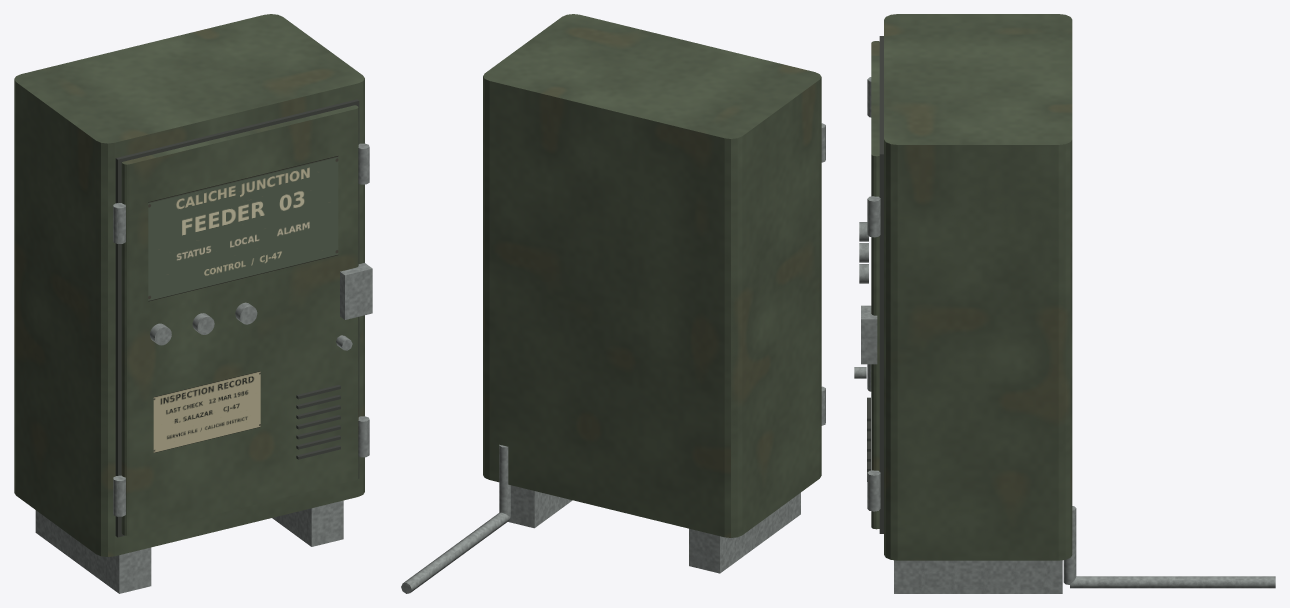
Rendered from SM_Substation_Control.fbx.
3 renders of one model, left to right at view 1: azimuth 30°, elevation 25°; view 2: azimuth 150°, elevation 25°; view 3: azimuth 270°, elevation 25°, orthographic. The views are drawn at different scales.
Visible parts, largest first — view 1: SM_Substation_Control; view 2: SM_Substation_Control; view 3: SM_Substation_Control.
Boxes of the visible parts, x1=… form: SM_Substation_Control: x1=14, y1=14, x2=372, y2=593; SM_Substation_Control: x1=401, y1=14, x2=825, y2=593; SM_Substation_Control: x1=854, y1=14, x2=1275, y2=593.
Size of the model in its own units: 1.25 by 1.7 by 2.05.
